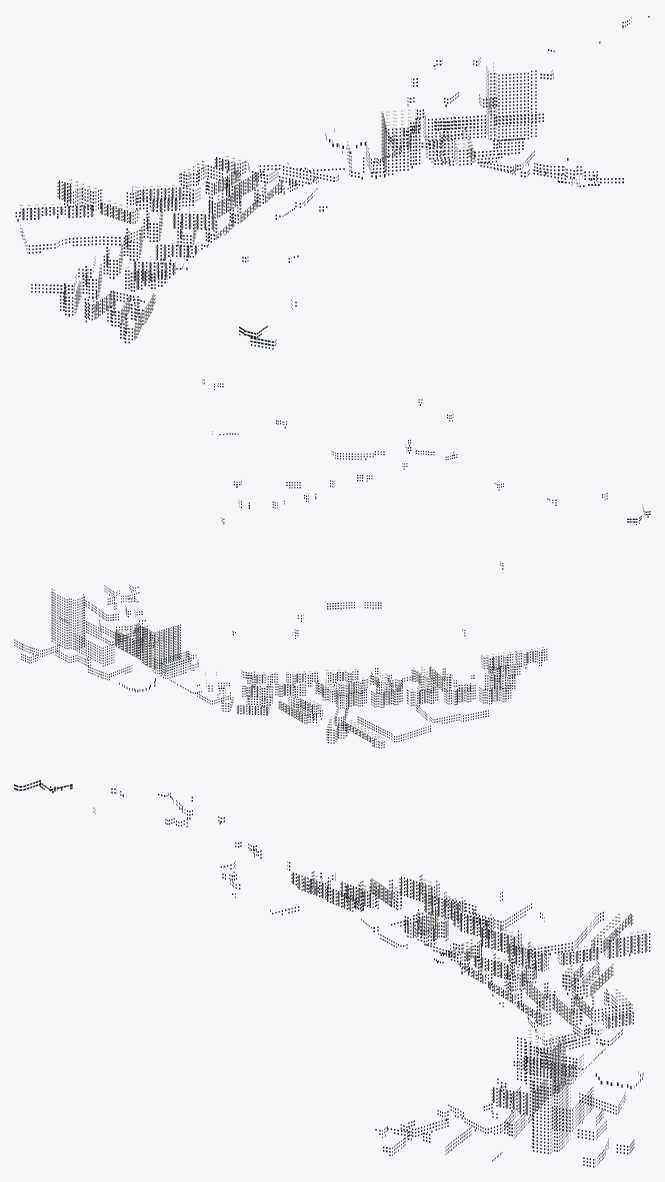
The model's file is facades.glb.
The picture shows the model from 3 angles, top to bottom: view 1: azimuth 30°, elevation 25°; view 2: azimuth 150°, elevation 25°; view 3: azimuth 270°, elevation 25°; orthographic projection. The views are drawn at different scales.
Parts seen in each view (by area): view 1: T_E0_N3_facades; view 2: T_E0_N3_facades; view 3: T_E0_N3_facades.
Part boxes in pixels (left/top/right/bottom): T_E0_N3_facades: left=15, top=16, right=649, bottom=349; T_E0_N3_facades: left=14, top=379, right=650, bottom=748; T_E0_N3_facades: left=14, top=780, right=650, bottom=1167.
Bounding box in the file's own units: 525 × 213 × 507.
